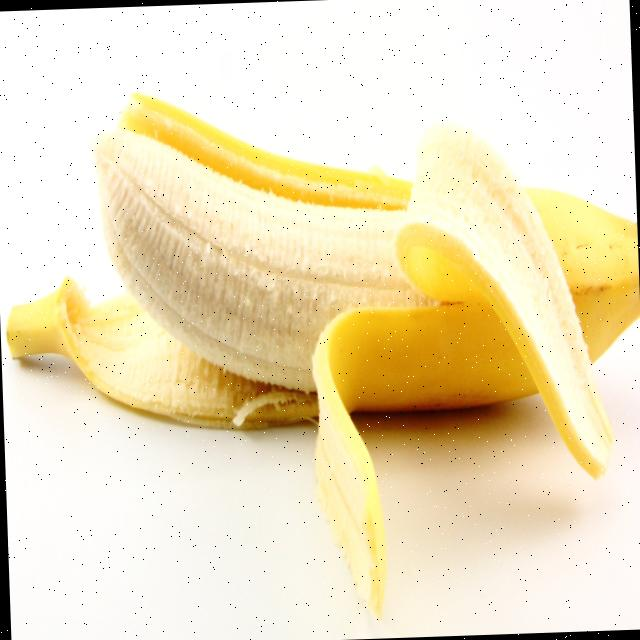Pisang: (0, 72, 640, 630), (301, 113, 640, 621), (3, 266, 320, 438)
